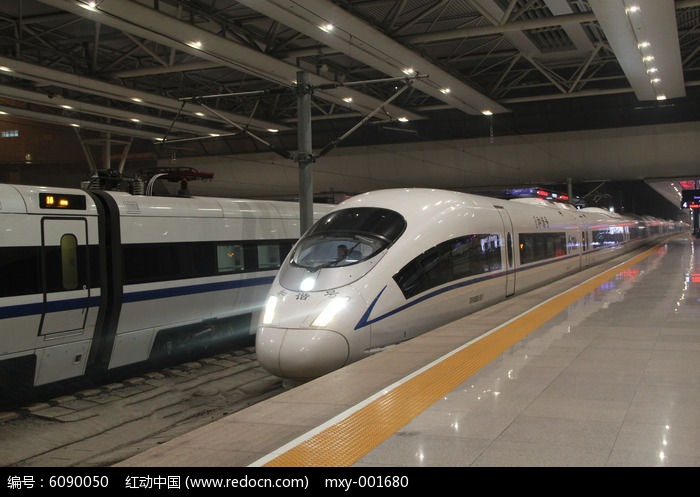hsrw: (252, 183, 692, 386)
